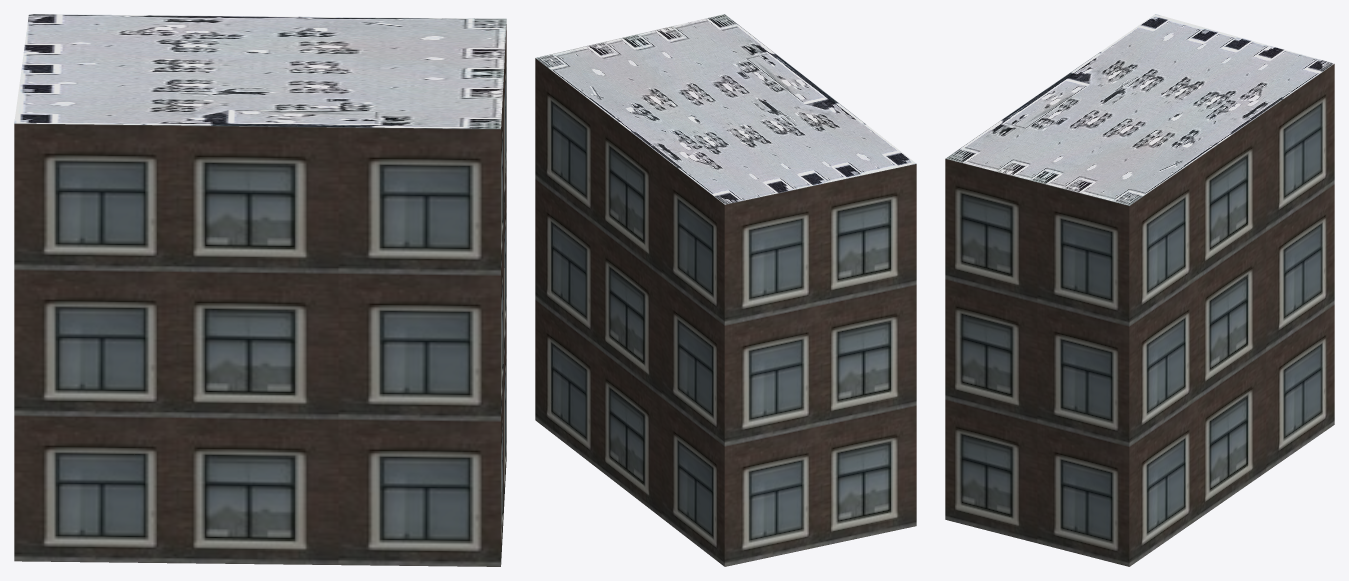
The model's file is ResTex__3214.fbx.
The picture shows the model from 3 angles, left to right: view 1: azimuth 30°, elevation 25°; view 2: azimuth 150°, elevation 25°; view 3: azimuth 270°, elevation 25°; orthographic projection. The views are drawn at different scales.
Parts seen in each view (by area): view 1: CityEngineMaterial_16_m, CityEngineMaterial_15_m; view 2: CityEngineMaterial_16_m, CityEngineMaterial_15_m; view 3: CityEngineMaterial_16_m, CityEngineMaterial_15_m.
Part boxes in pixels (bbox=[...]): CityEngineMaterial_16_m: bbox=[14, 24, 506, 566]; CityEngineMaterial_15_m: bbox=[14, 14, 506, 128]; CityEngineMaterial_16_m: bbox=[535, 58, 916, 566]; CityEngineMaterial_15_m: bbox=[536, 14, 916, 204]; CityEngineMaterial_16_m: bbox=[945, 64, 1334, 566]; CityEngineMaterial_15_m: bbox=[946, 14, 1334, 205].
Bounding box in the file's own units: 10.26 × 9 × 8.79.
2 materials, 2 textured.
